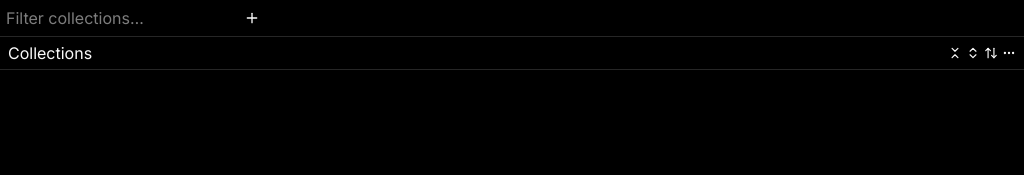
Test: SidebarShell › restores the persisted sort key on mount
Note: Wait for the async load effect to apply the sort, then open the dropdown.
Click the button named "sort-collections".
click(991, 53)  # box [984,46,998,60]
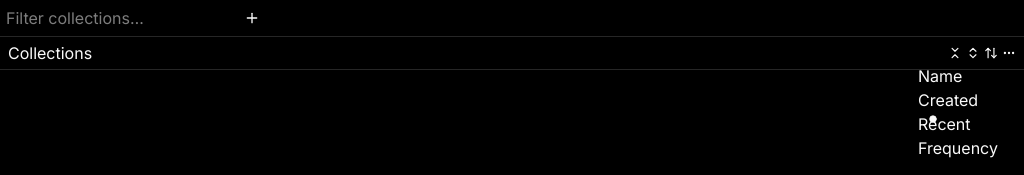
Result: the menu item "Recent" is shown at [918,114,970,134]
